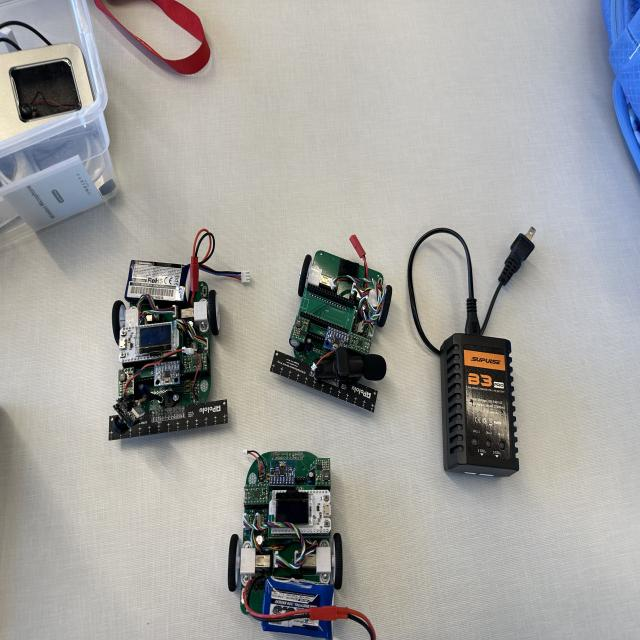robot: (107, 227, 250, 441), (227, 448, 375, 639), (268, 229, 394, 420)
